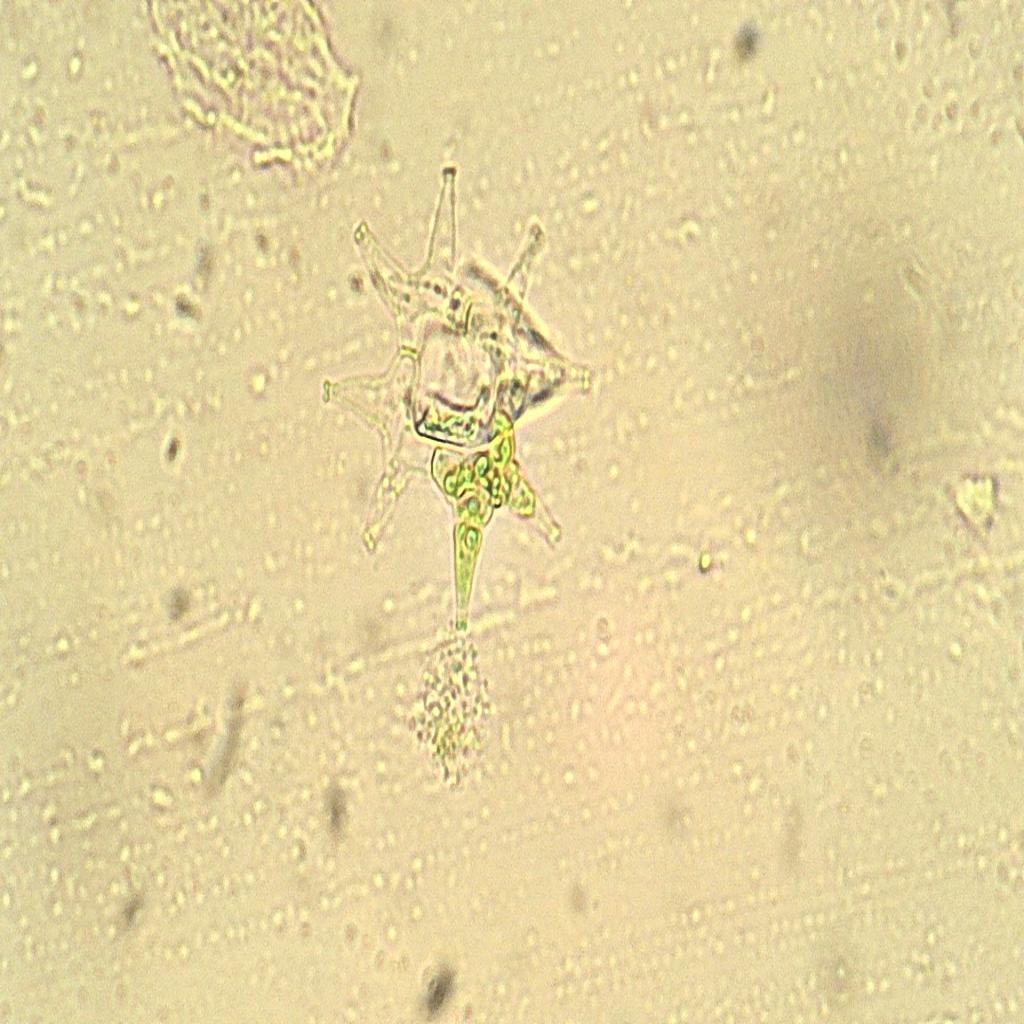Pediastrum_75TH: (312, 149, 600, 661)
